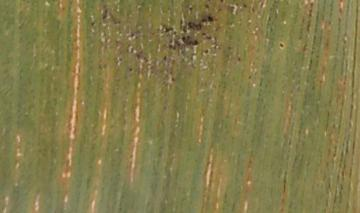tarspot: (181, 34, 200, 45), (185, 21, 203, 31), (162, 25, 173, 33), (167, 41, 175, 51), (206, 14, 215, 22), (102, 9, 108, 19), (126, 65, 134, 72), (187, 4, 194, 12), (161, 54, 168, 62), (89, 20, 97, 27), (277, 41, 284, 48), (235, 55, 242, 62), (203, 47, 210, 54), (129, 30, 135, 38), (170, 75, 176, 82), (204, 3, 210, 9), (242, 2, 248, 8), (205, 36, 213, 40), (219, 1, 225, 4)
